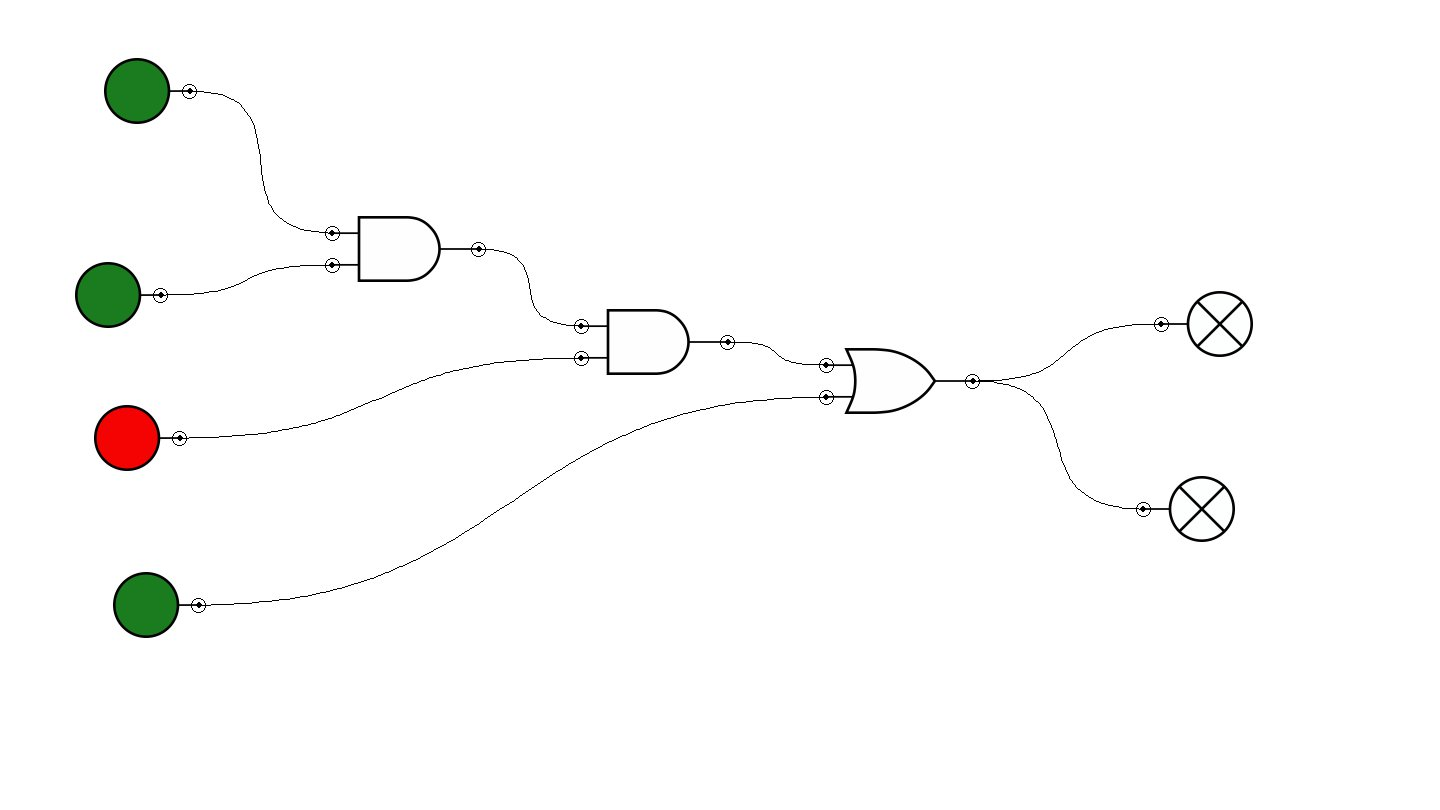and: (325, 216, 486, 282), (574, 309, 735, 375)
bulb: (1154, 291, 1253, 357), (1136, 476, 1235, 542)
or: (819, 348, 980, 414)
switch_False: (94, 405, 187, 471)
switch_True: (75, 262, 168, 328), (113, 572, 206, 638), (104, 58, 197, 124)
